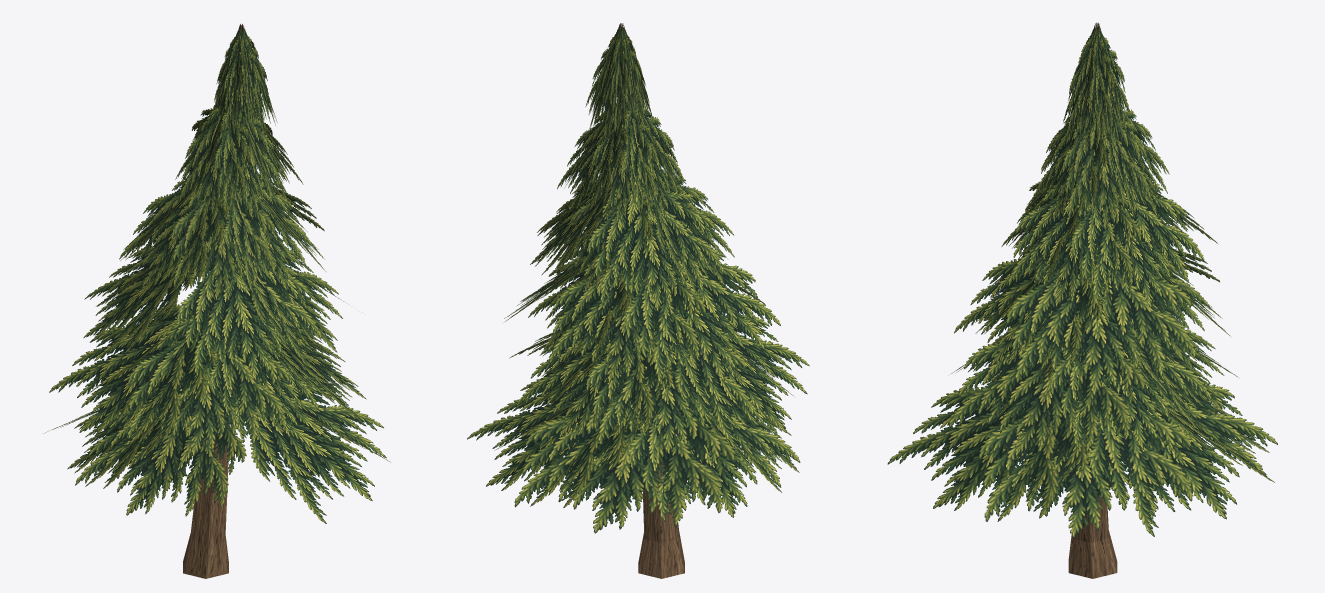
File: Abete_05_Irregolare.obj
3 views of the same model, side by side, from view 1: azimuth 30°, elevation 25°; view 2: azimuth 150°, elevation 25°; view 3: azimuth 270°, elevation 25° (orthographic). The views are drawn at different scales.
Parts seen in each view (by area): view 1: Abete_05_Irregolare; view 2: Abete_05_Irregolare; view 3: Abete_05_Irregolare.
Boxes of the visible parts, box(x1,y1,x2,y2) form: Abete_05_Irregolare: box(44, 24, 389, 578); Abete_05_Irregolare: box(467, 23, 809, 578); Abete_05_Irregolare: box(887, 22, 1277, 578).
Bounding box in the file's own units: 3.94 × 6.2 × 4.41.
2 materials, 2 textured.
